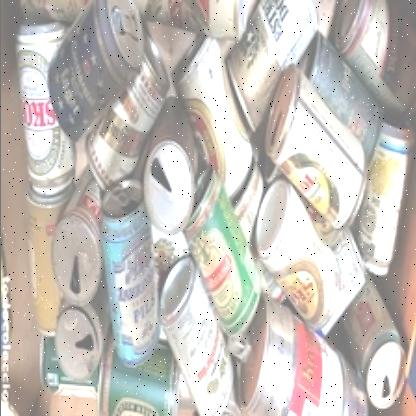Can: (259, 64, 365, 232), (171, 33, 261, 223), (230, 294, 352, 416), (44, 0, 144, 142), (83, 30, 169, 190), (252, 178, 340, 330), (220, 0, 318, 136), (182, 170, 260, 340), (14, 17, 78, 209), (156, 256, 232, 416), (98, 180, 160, 370), (352, 119, 416, 275), (330, 0, 416, 116), (336, 280, 408, 411), (141, 105, 202, 237), (28, 184, 74, 338), (48, 178, 102, 307), (52, 283, 108, 384), (129, 0, 249, 42)
